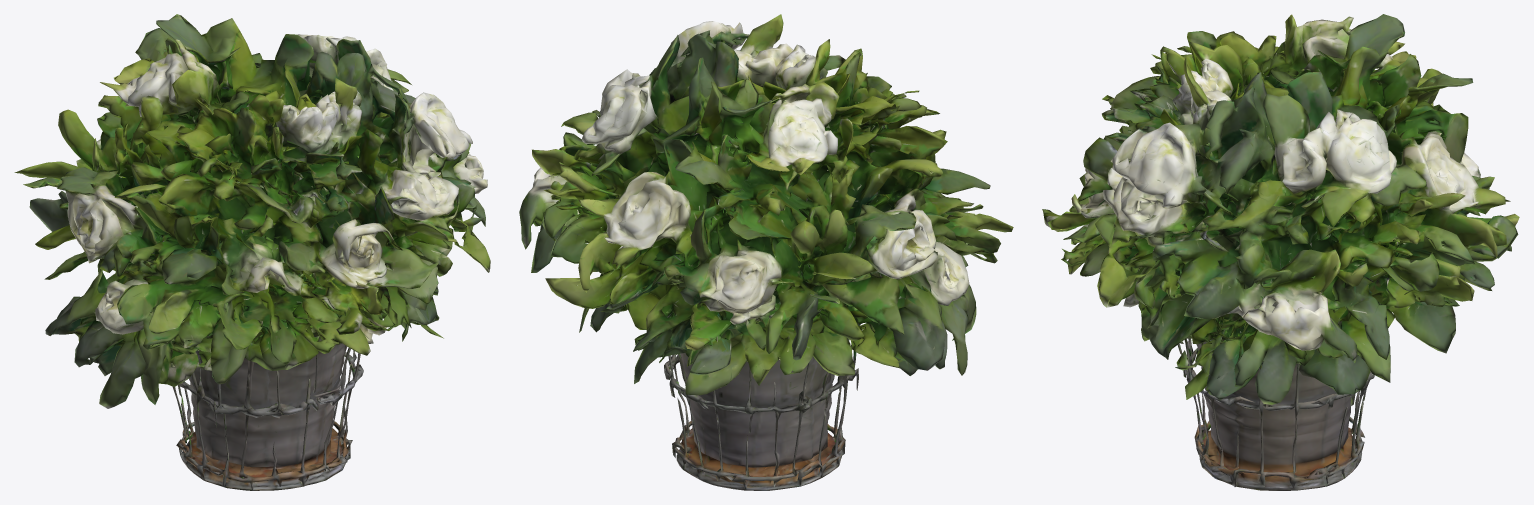
The model's file is PottedGardenia.glb.
The picture shows the model from 3 angles, left to right: view 1: azimuth 30°, elevation 25°; view 2: azimuth 150°, elevation 25°; view 3: azimuth 270°, elevation 25°; orthographic projection. The views are drawn at different scales.
Size of the model in its own units: 1.99 by 1.87 by 1.95.
1 material, 1 textured.
